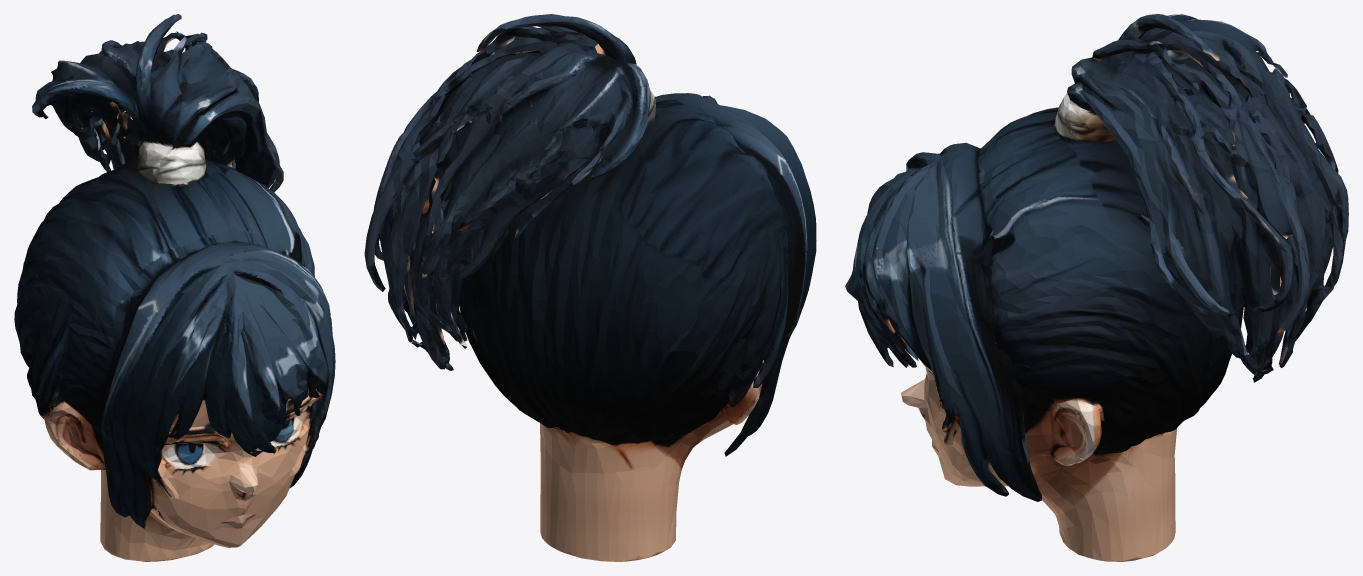
The model's file is side_h_scout_repaired_atlas.glb.
The picture shows the model from 3 angles, left to right: view 1: azimuth 30°, elevation 25°; view 2: azimuth 150°, elevation 25°; view 3: azimuth 270°, elevation 25°; orthographic projection. The views are drawn at different scales.
Visible parts, largest first — view 1: temp_mesh.ply; view 2: temp_mesh.ply; view 3: temp_mesh.ply.
Part boxes in pixels (<box>): temp_mesh.ply: <box>14,14,335,561</box>; temp_mesh.ply: <box>364,14,816,561</box>; temp_mesh.ply: <box>845,14,1348,561</box>.
Bounding box in the file's own units: 0.8324 × 1.33 × 1.15.
Materials: 1 (1 with a texture image).
